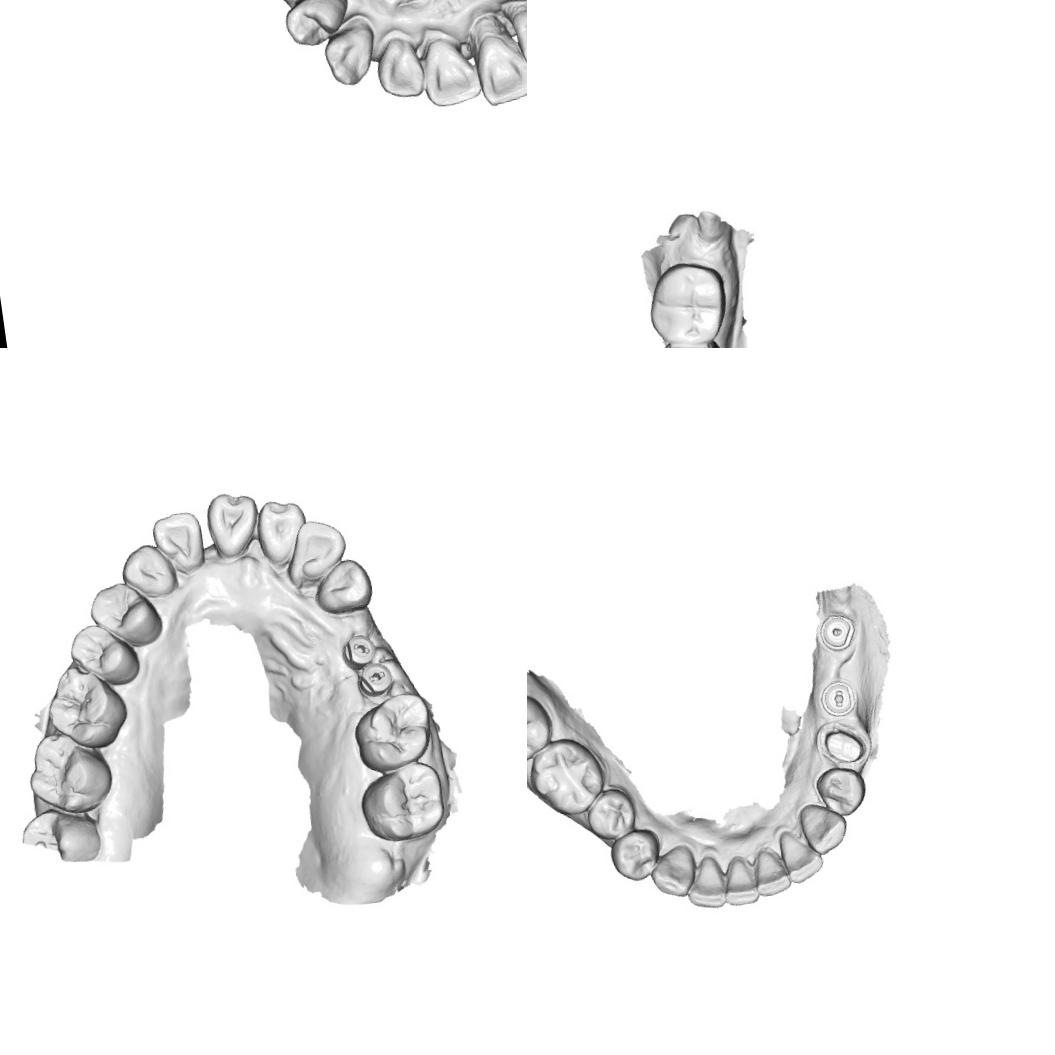canine: (320, 19, 384, 91), (309, 556, 376, 620), (117, 540, 181, 605), (796, 798, 851, 858), (645, 841, 700, 901)
crown: (815, 717, 869, 769)
implant: (816, 612, 858, 654)
implant_minus: (815, 676, 859, 720), (353, 659, 395, 701), (339, 632, 380, 673)
incisor: (280, 514, 352, 593), (418, 32, 482, 112), (202, 487, 265, 563), (471, 27, 527, 110), (371, 31, 430, 103), (150, 509, 209, 581), (253, 496, 312, 568), (777, 826, 826, 886), (682, 853, 730, 912), (750, 844, 793, 899), (718, 854, 760, 908), (510, 4, 527, 77)
molar: (23, 726, 118, 820), (42, 658, 133, 754), (642, 255, 732, 348), (356, 758, 450, 846), (348, 688, 438, 777), (527, 732, 609, 820), (527, 684, 557, 768)
premolar: (85, 575, 166, 652), (65, 618, 143, 693), (278, 0, 355, 56), (812, 763, 870, 821), (606, 826, 664, 884), (582, 785, 639, 843)
